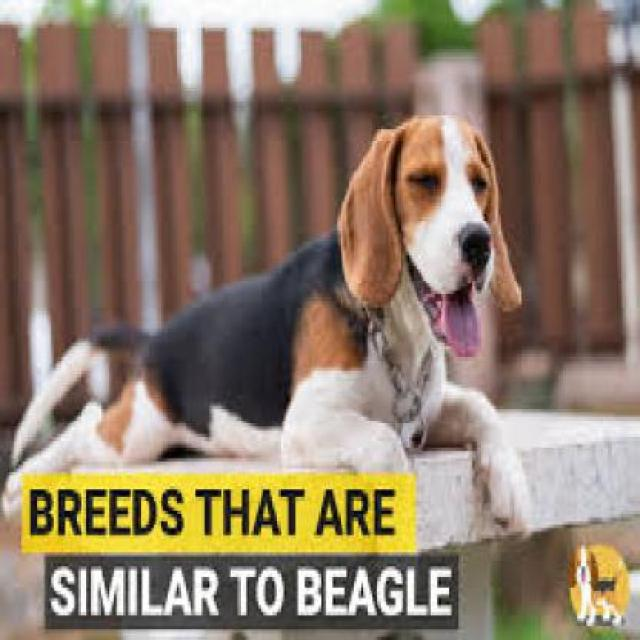Dog: (14, 112, 528, 470)
